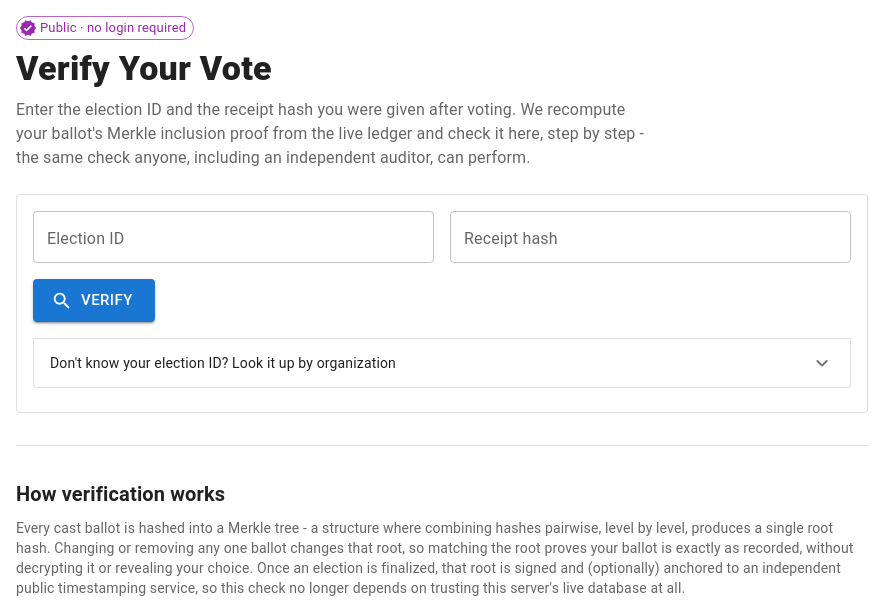
Test: Verify Page › Loading State › shows a loading state during verification
Type "election-1" into the field labelled "Election ID" at {"x": 234, "y": 237}, box [33,211,434,263]
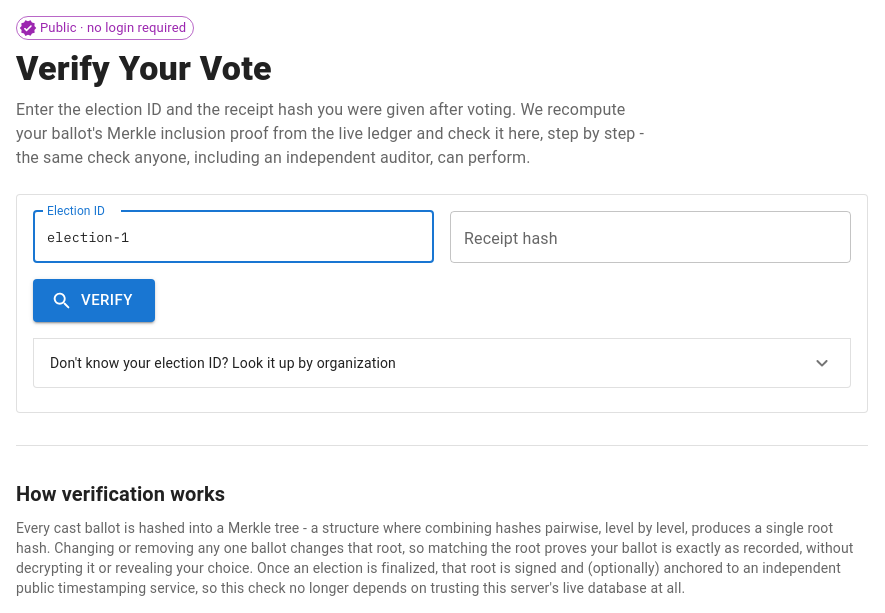
Type "receipt-hash-abc" into the field labelled "Receipt hash" at {"x": 650, "y": 237}, box [450,211,851,263]
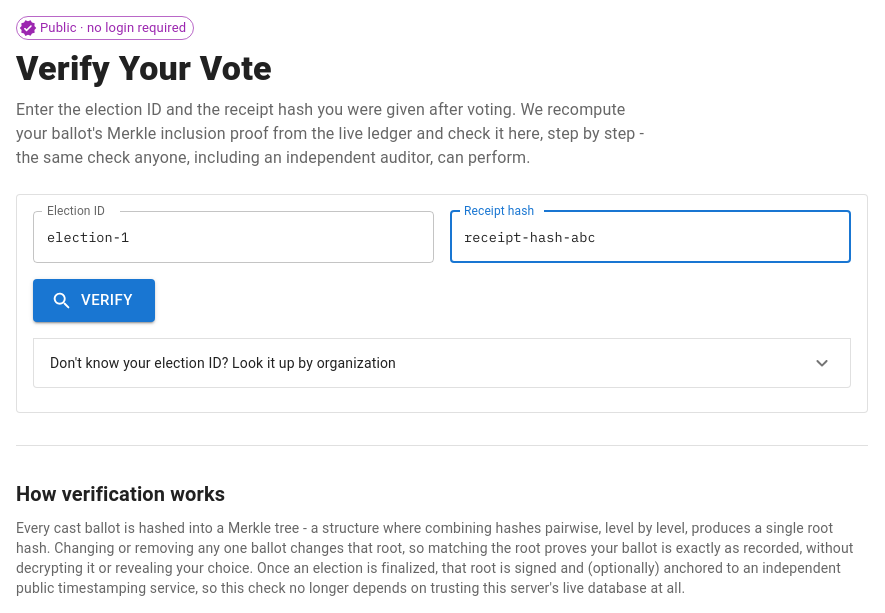
Click the button "Verify" at {"x": 94, "y": 301}, box [33,279,155,322]
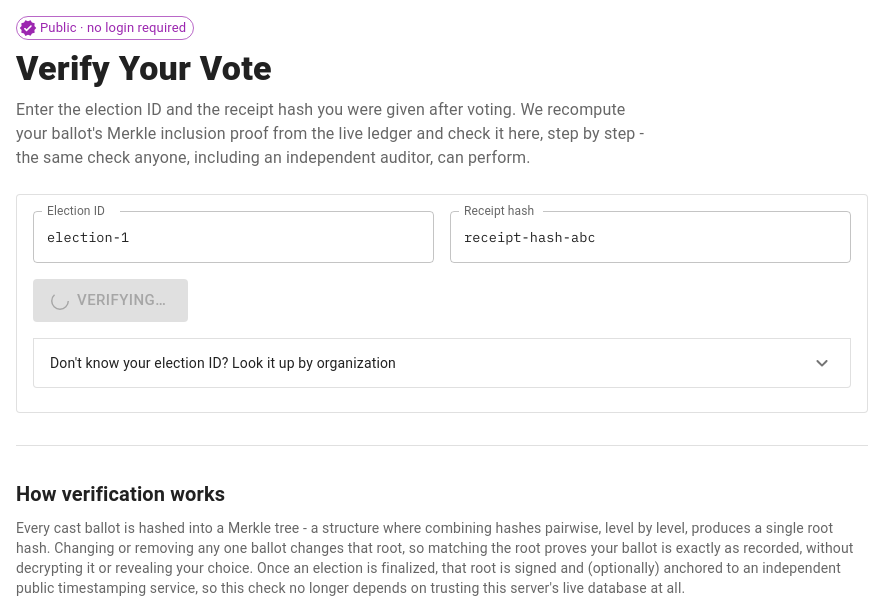
Expected: the button "Verifying…" is disabled, [33,279,188,322]
